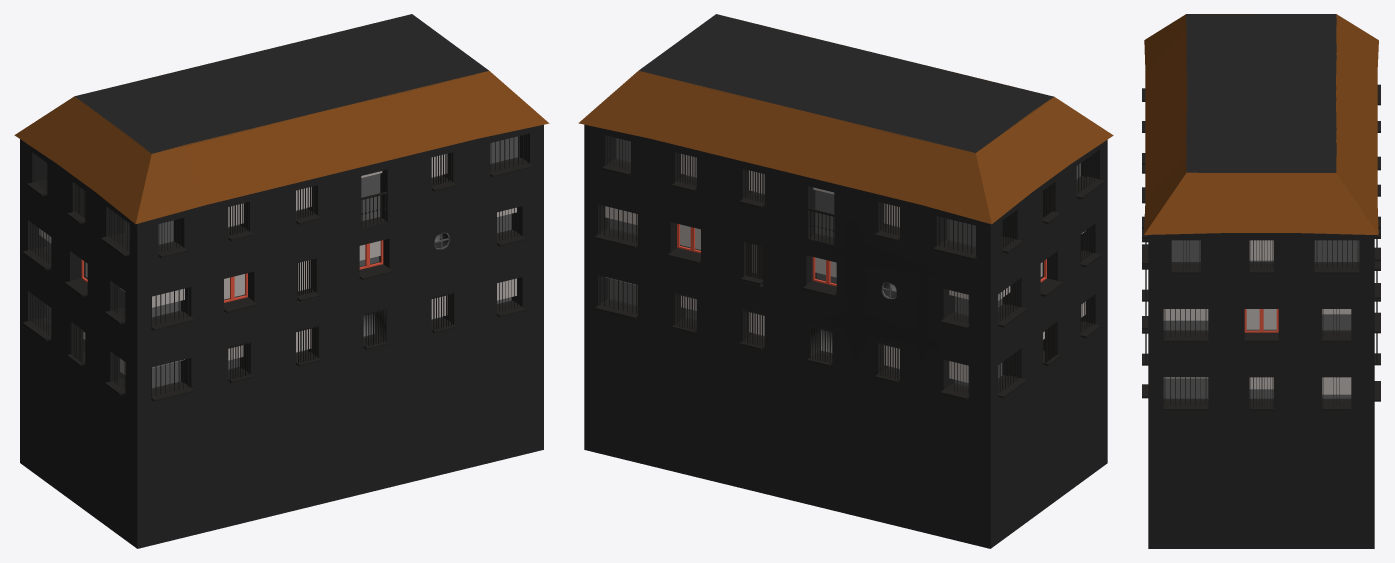
File: casa procedural_relleno_Con sotano_8.fbx
The picture shows the model from 3 angles, left to right: view 1: azimuth 30°, elevation 25°; view 2: azimuth 150°, elevation 25°; view 3: azimuth 270°, elevation 25°; orthographic projection. The views are drawn at different scales.
Visible parts, largest first — view 1: Procedural_Building_straight.008; view 2: Procedural_Building_straight.008; view 3: Procedural_Building_straight.008.
Part boxes in pixels (bbox=[...]): Procedural_Building_straight.008: bbox=[14, 14, 549, 548]; Procedural_Building_straight.008: bbox=[578, 14, 1113, 548]; Procedural_Building_straight.008: bbox=[1142, 14, 1380, 548].
Size of the model in its own units: 616 by 526 by 316.
